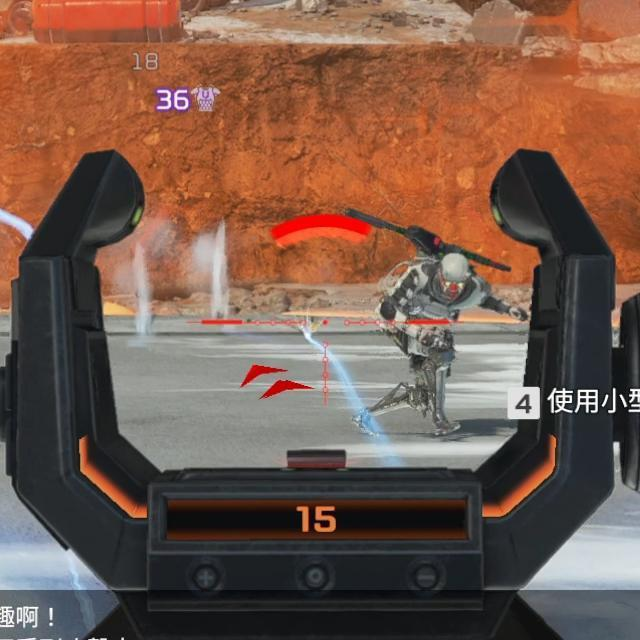avatar: (373, 250, 494, 439)
